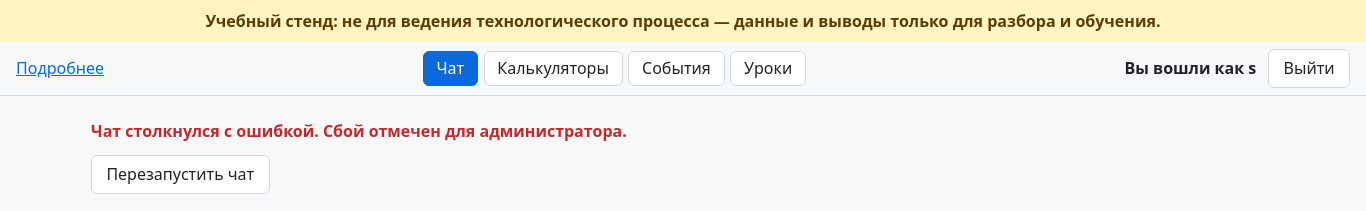
Scenario: error_boundary_reports_crash_and_restarts
Check: the text "Чат столкнулся с ошибкой. Сбой отмечен для администратора." is shown, box [91, 120, 627, 142]
Check: the text "Вы вошли как s" is shown, box [1125, 57, 1256, 80]
Click the button "Перезапустить чат".
click(180, 175)  # box [91, 155, 270, 194]
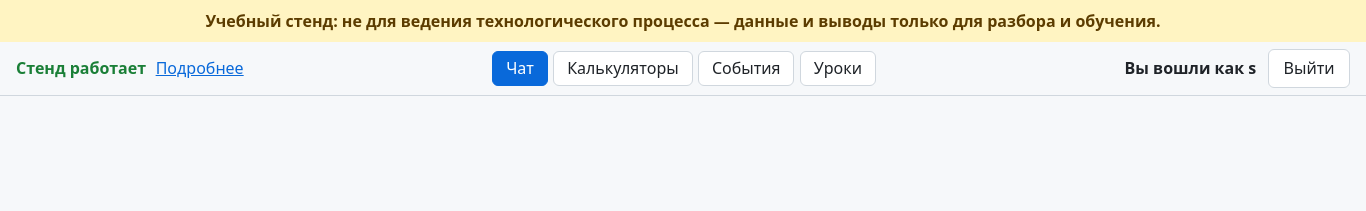
Check: the text "Чат столкнулся с ошибкой. Сбой отмечен для администратора." is gone
